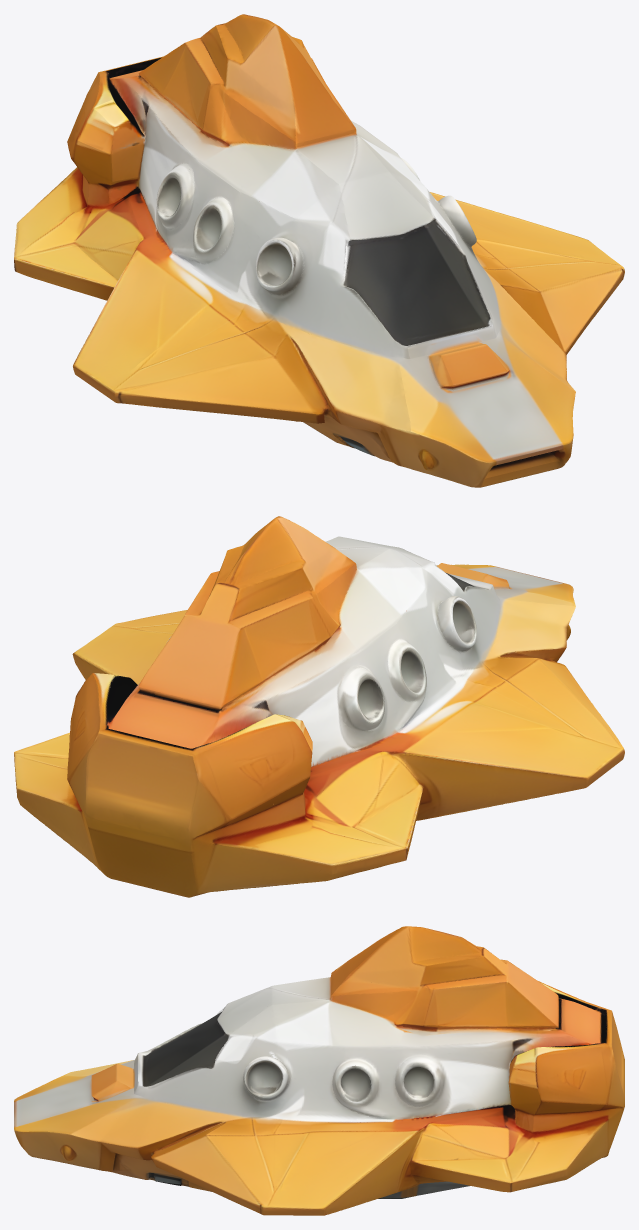
Rendered from Spaceship_shaded.glb.
3 renders of one model, top to bottom at view 1: azimuth 30°, elevation 25°; view 2: azimuth 150°, elevation 25°; view 3: azimuth 270°, elevation 25°, orthographic. The views are drawn at different scales.
Parts seen in each view (by area): view 1: model; view 2: model; view 3: model.
Part boxes in pixels (box(x1,y1,x2,y2)): model: box(14, 14, 624, 487); model: box(14, 516, 624, 897); model: box(14, 926, 624, 1215).
Size of the model in its own units: 1.44 by 0.8521 by 1.9.
1 material, 1 textured.
